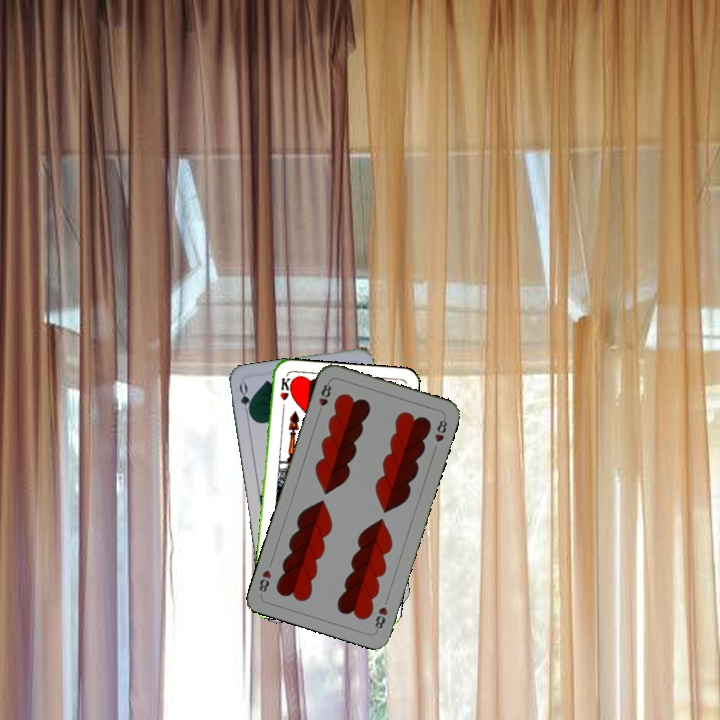GO: (235, 379, 255, 420)
H8: (314, 378, 334, 417), (371, 602, 390, 633)
HK: (276, 374, 293, 414)
